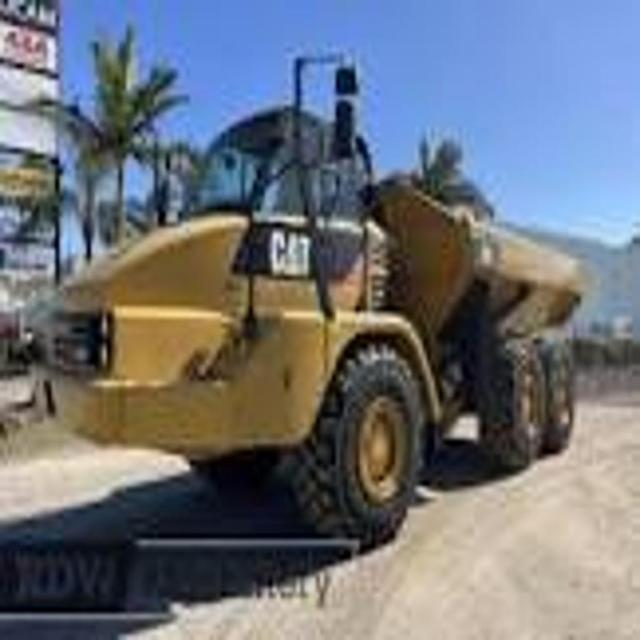dump_truck: (24, 46, 583, 544)
